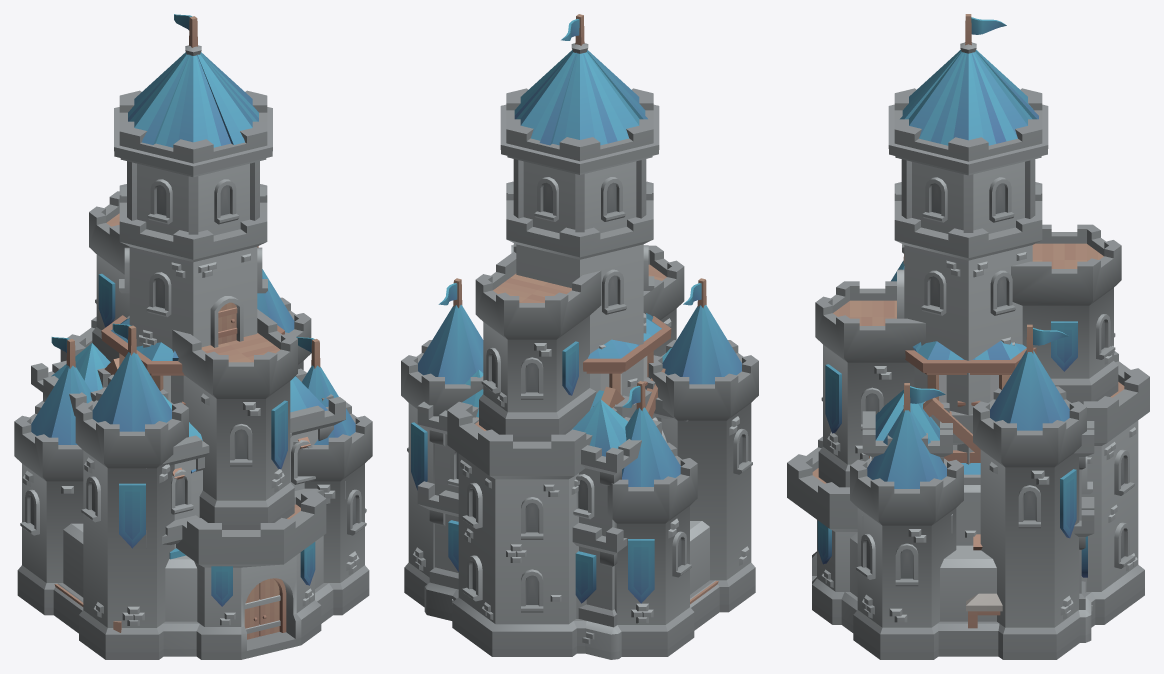
The model's file is kaykit-medieval.glb.
3 renders of one model, left to right at view 1: azimuth 30°, elevation 25°; view 2: azimuth 150°, elevation 25°; view 3: azimuth 270°, elevation 25°, orthographic.
Parts seen in each view (by area): view 1: castle, barracks, tower_A; view 2: castle, barracks, tower_A; view 3: castle, barracks, tower_A, watermill, market.
Boxes of the visible parts, x1,y1,x2,y2 form: castle: [14, 14, 372, 659]; barracks: [31, 343, 345, 559]; tower_A: [101, 315, 284, 405]; castle: [401, 14, 758, 656]; barracks: [417, 348, 688, 659]; tower_A: [583, 313, 671, 419]; castle: [787, 14, 1149, 659]; barracks: [862, 390, 1094, 642]; tower_A: [905, 341, 1036, 444]; watermill: [869, 397, 980, 462]; market: [966, 593, 1002, 628].
Bounding box in the file's own units: 1.98 × 3.98 × 2.26.
